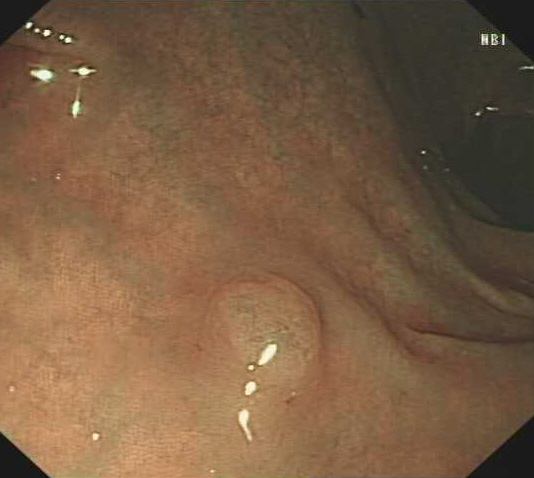others: (199, 272, 326, 395)
